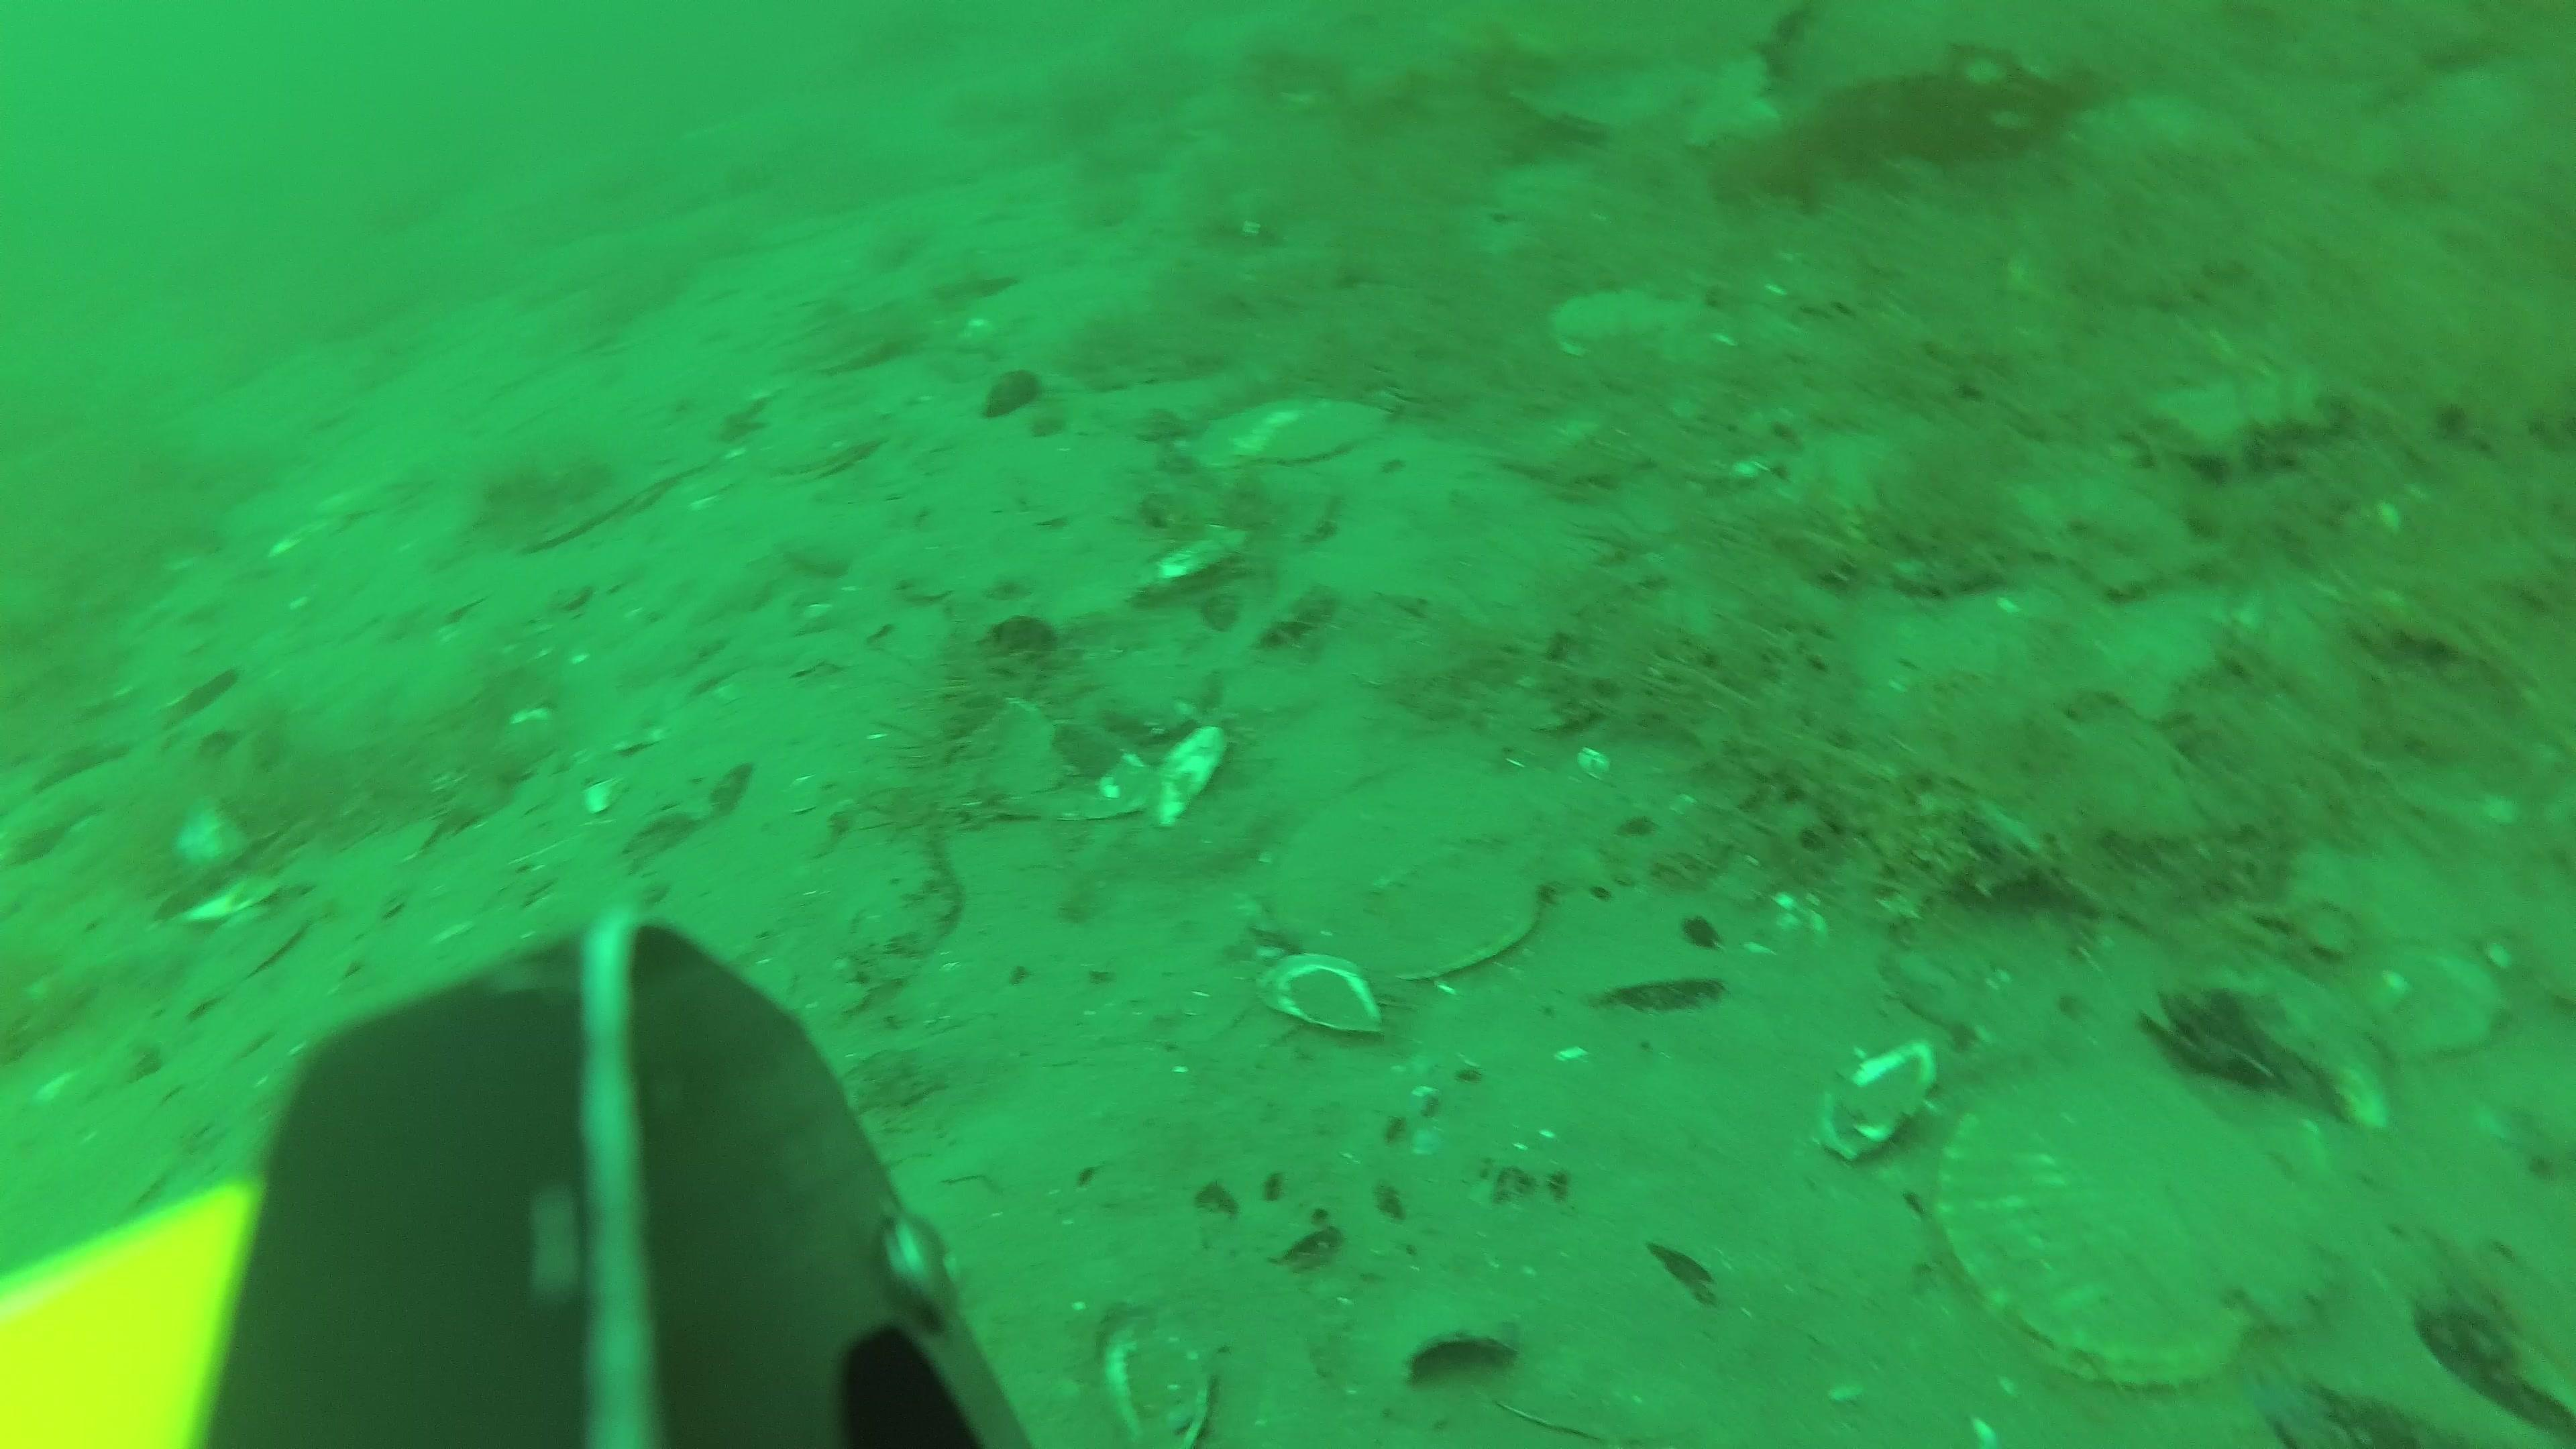scallop: (1950, 1062, 2335, 1389), (1272, 771, 1608, 980), (1555, 283, 1688, 361), (757, 410, 888, 487), (1274, 395, 1392, 462), (1191, 395, 1318, 456)
